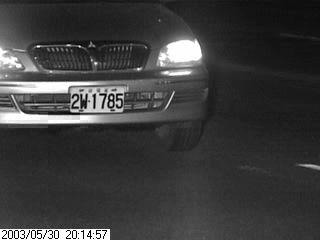plate: (69, 83, 125, 115)
